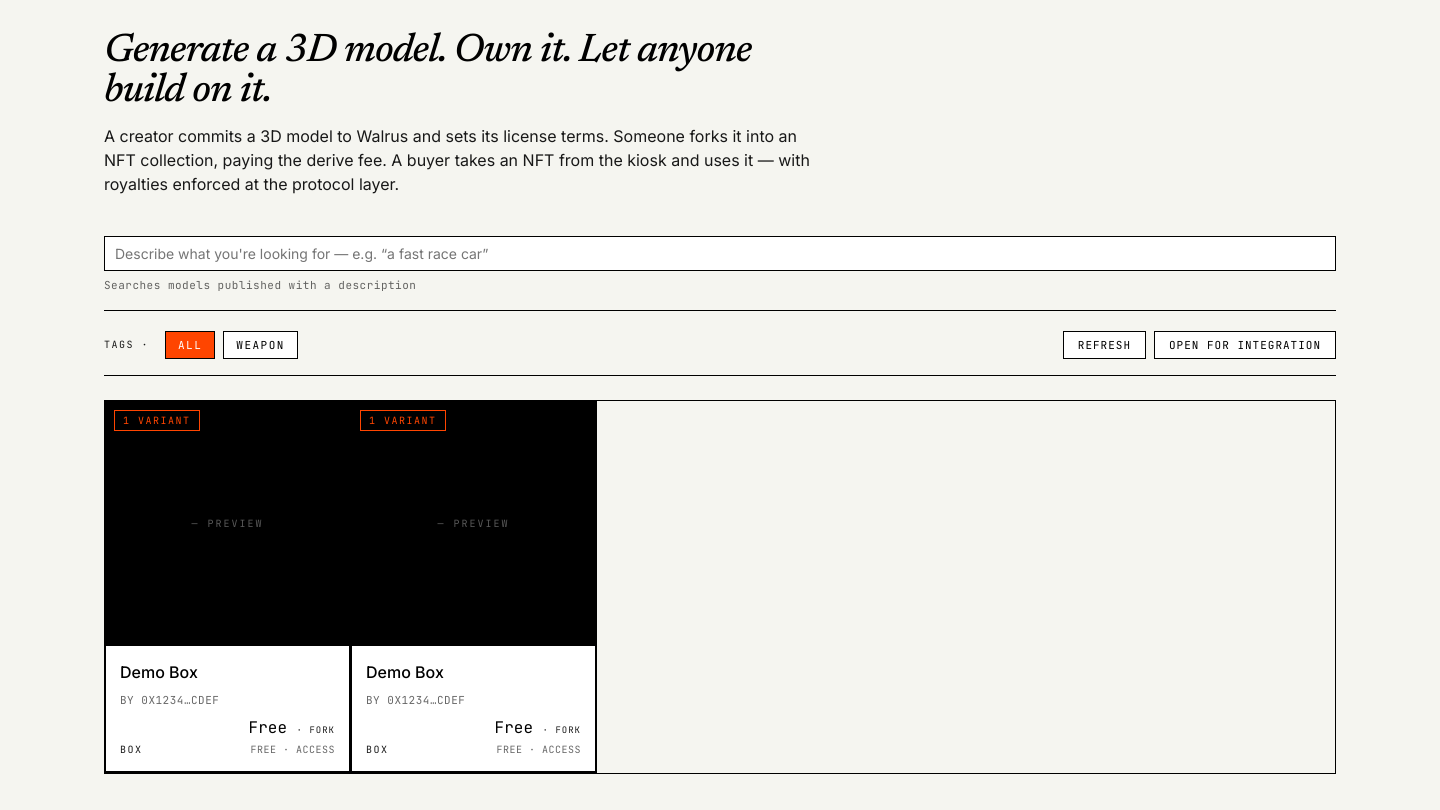
Scenario: BrowsePage › Escape clears the query (and the active match clears with it)
Step 1. Type "race car" into the field with test id "browse-search-input" → (720, 254), box x1=104 y1=236 x2=1336 y2=271
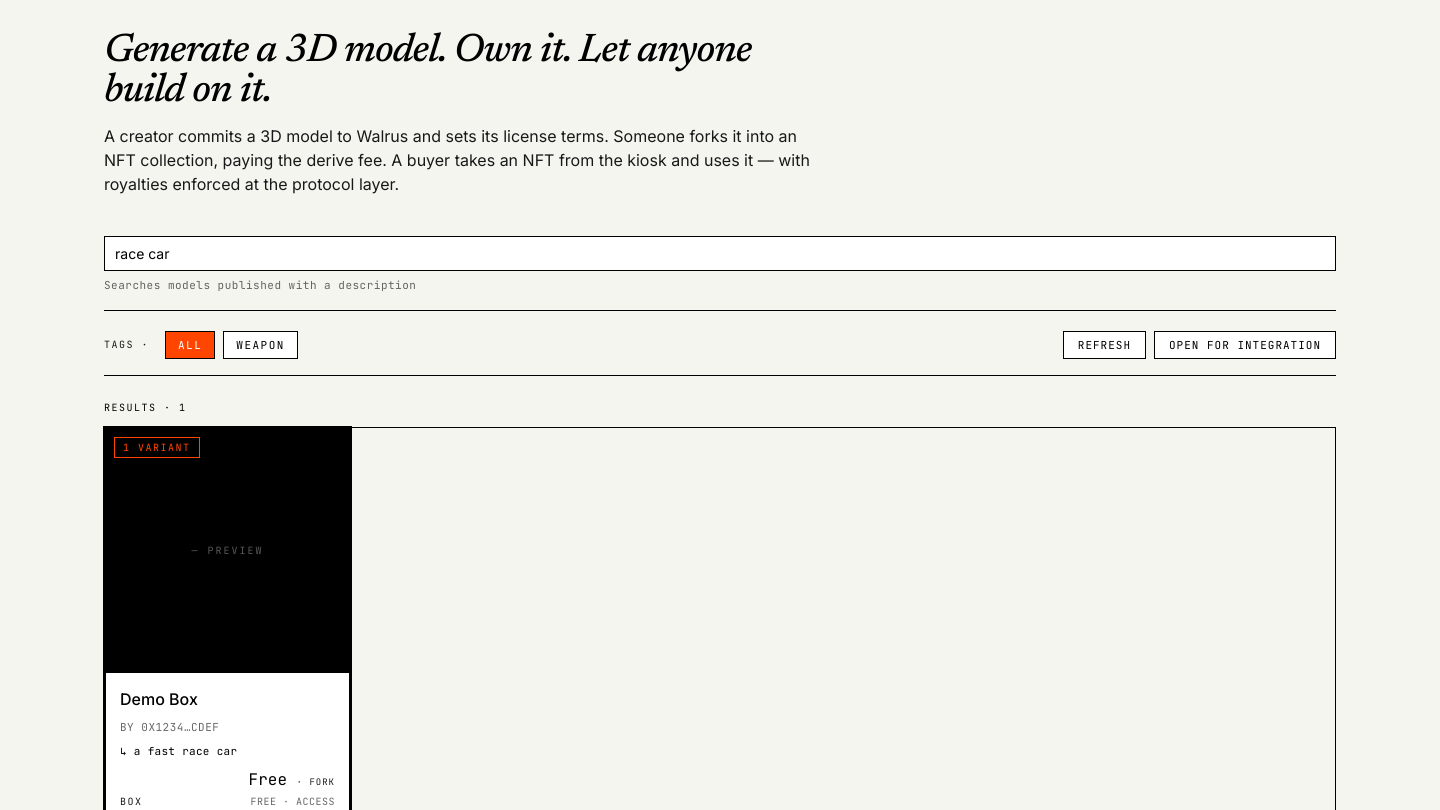
Expected: the text "↳ a fast race car" is shown, x1=120 y1=744 x2=237 y2=758
Step 2. Press Escape in the field with test id "browse-search-input", box x1=104 y1=236 x2=1336 y2=271
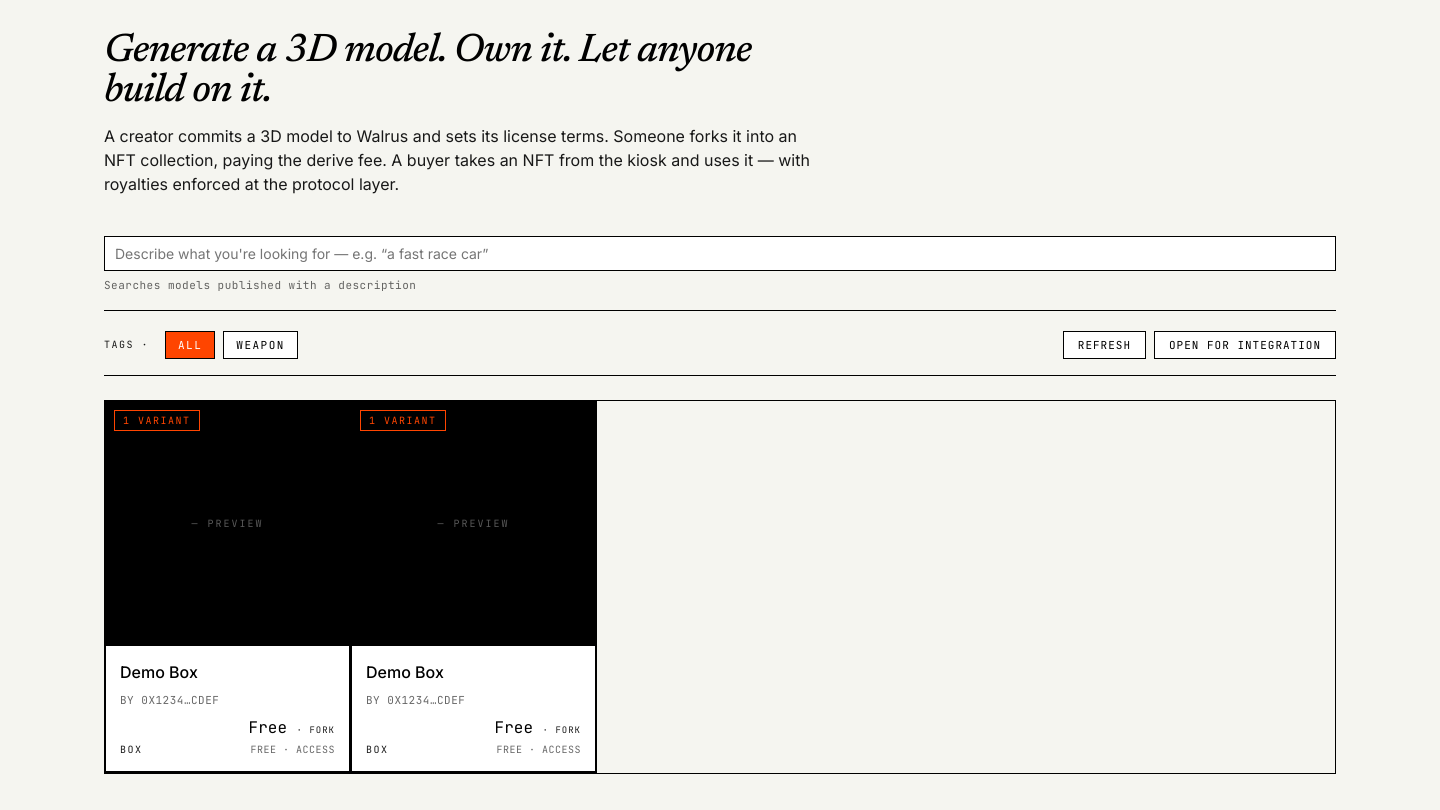
Expected: the field with test id "browse-search-input" is empty, x1=104 y1=236 x2=1336 y2=271
Expected: the text with test id "collection-card-match-reason" is gone
